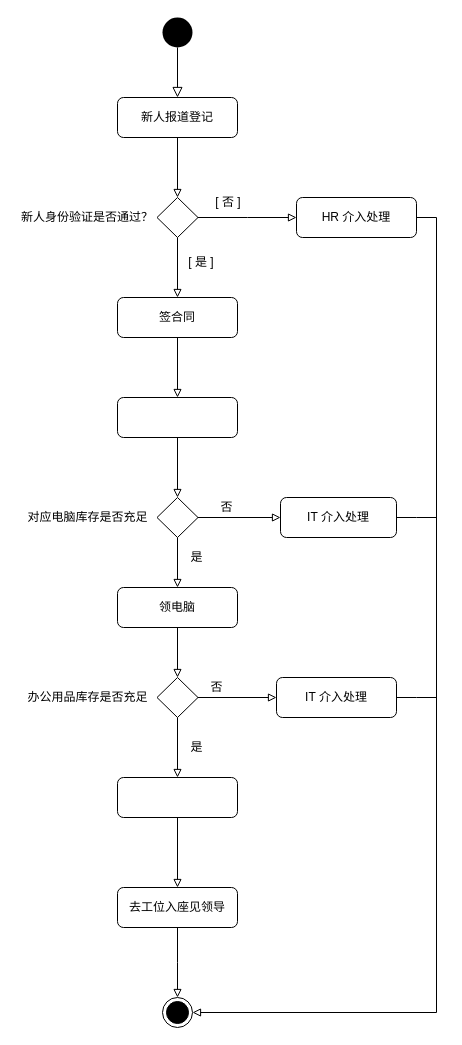
The diagram is 462 pixels wide and 1045 high, and some of its shapes have lost their labels. The shapes that lost their labels are listed below. From the top down, each one's centre as x and y in pixels, then its label:
(177,417): 领工牌
(177,797): 领办公用品
